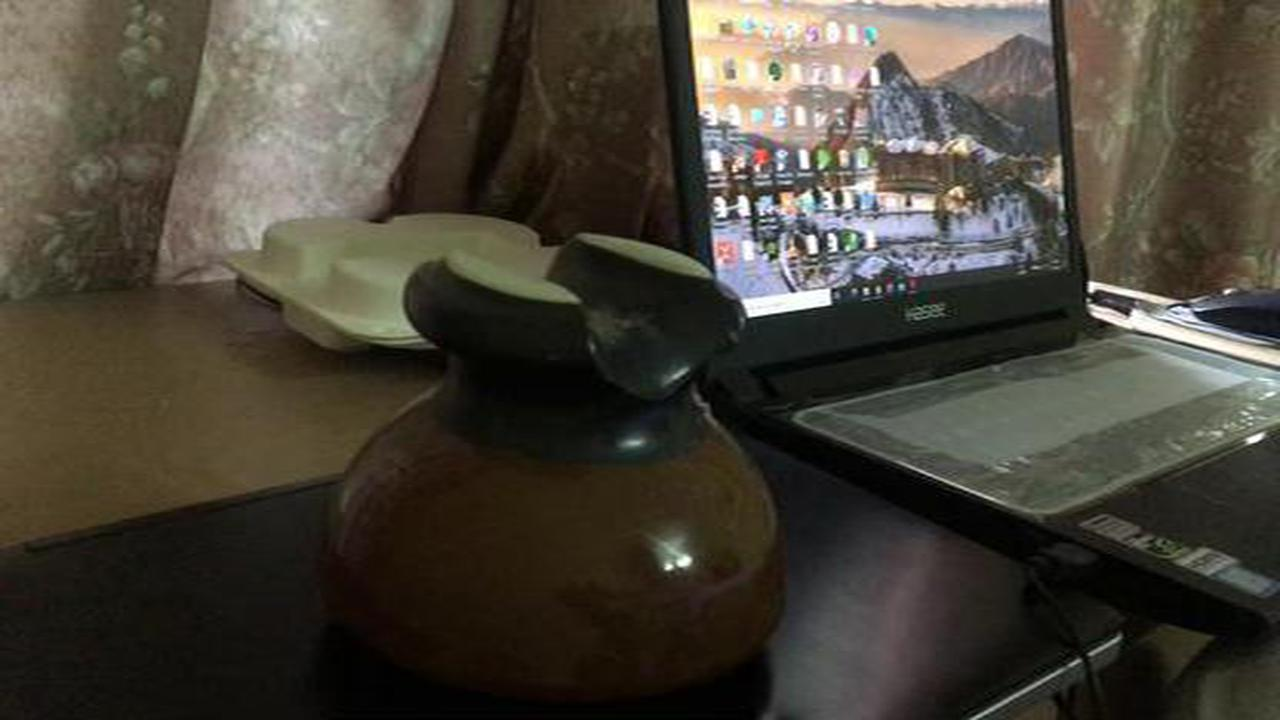insulator_pin: (308, 212, 819, 705)
